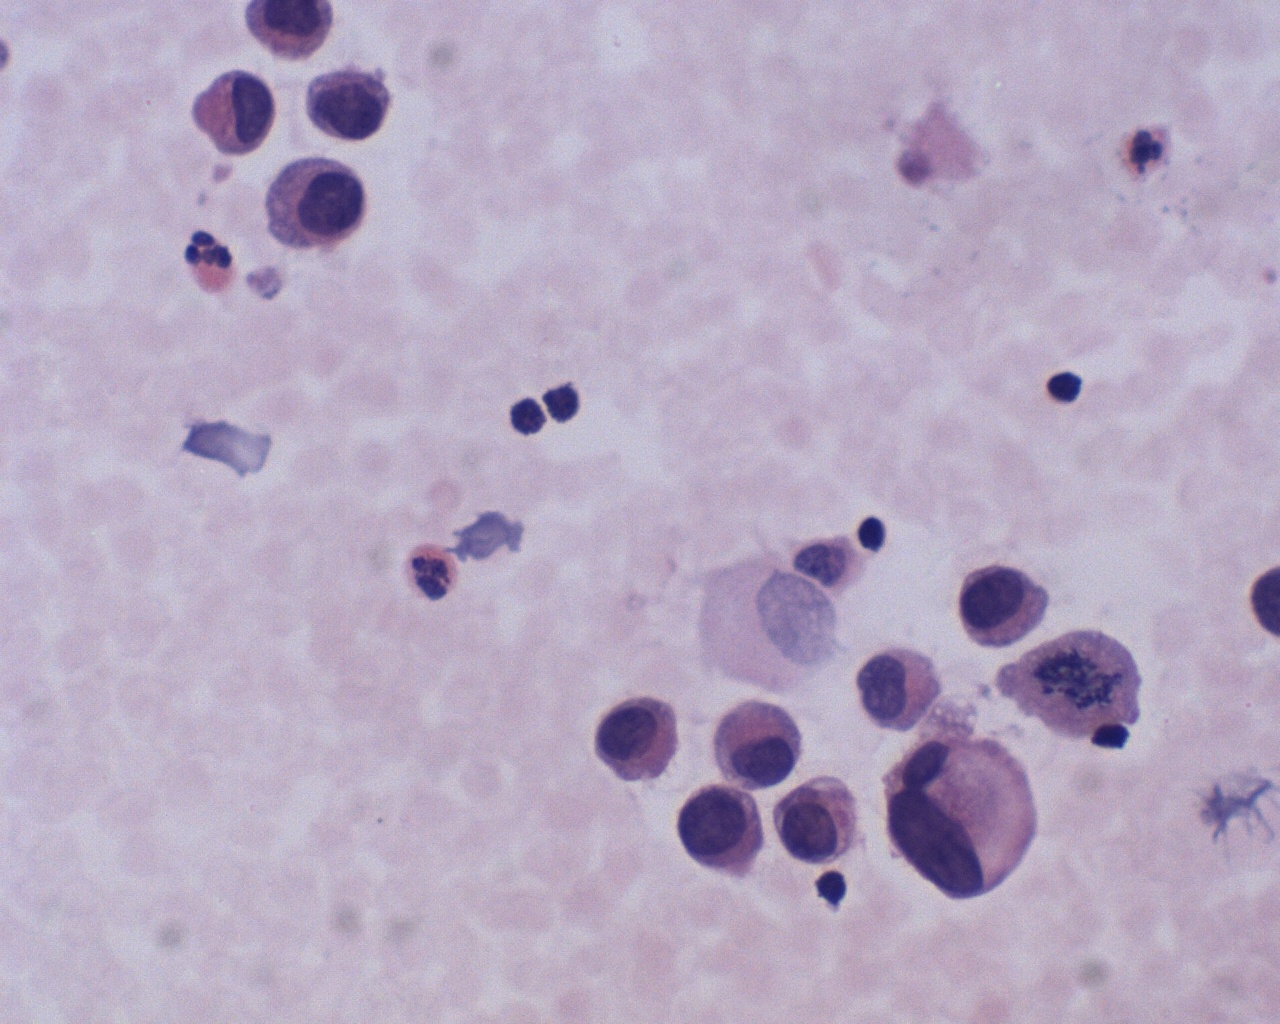ab: (1013, 628, 1153, 757), (260, 152, 367, 252), (771, 770, 869, 871), (672, 777, 766, 883), (949, 560, 1051, 648), (299, 61, 394, 148)
histo: (876, 727, 1043, 900)
meso: (589, 696, 682, 785), (715, 698, 804, 789)
neutro: (172, 226, 243, 299)
